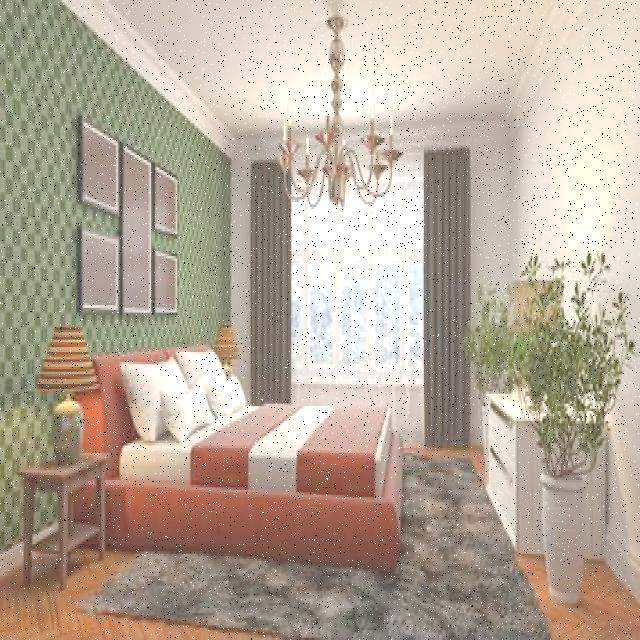bed: (94, 338, 398, 556)
